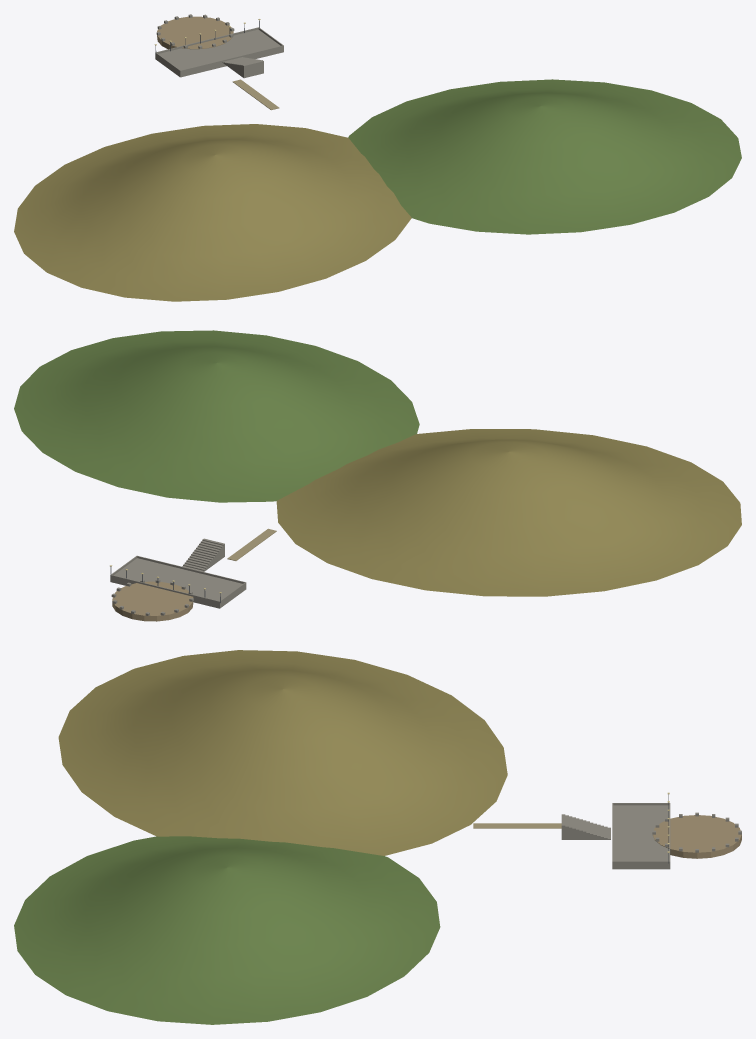
Rendered from desktop.glb.
The picture shows the model from 3 angles, top to bottom: view 1: azimuth 30°, elevation 25°; view 2: azimuth 150°, elevation 25°; view 3: azimuth 270°, elevation 25°; orthographic projection. The views are drawn at different scales.
Visible parts, largest first — view 1: lm.twin-peaks; view 2: lm.twin-peaks; view 3: lm.twin-peaks.
Part boxes in pixels (x1=…): lm.twin-peaks: x1=14, y1=14, x2=741, y2=301; lm.twin-peaks: x1=14, y1=330, x2=741, y2=621; lm.twin-peaks: x1=14, y1=650, x2=741, y2=1024.
Bounding box in the file's own units: 396 × 33 × 325.
